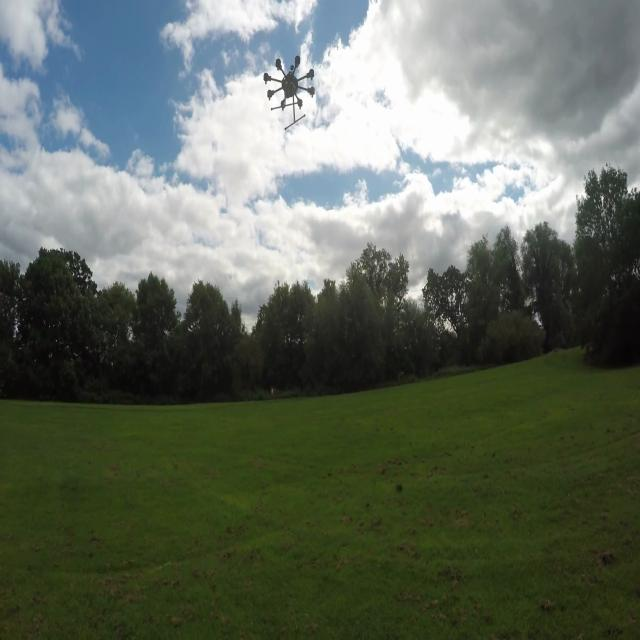drone: (258, 32, 323, 131)
